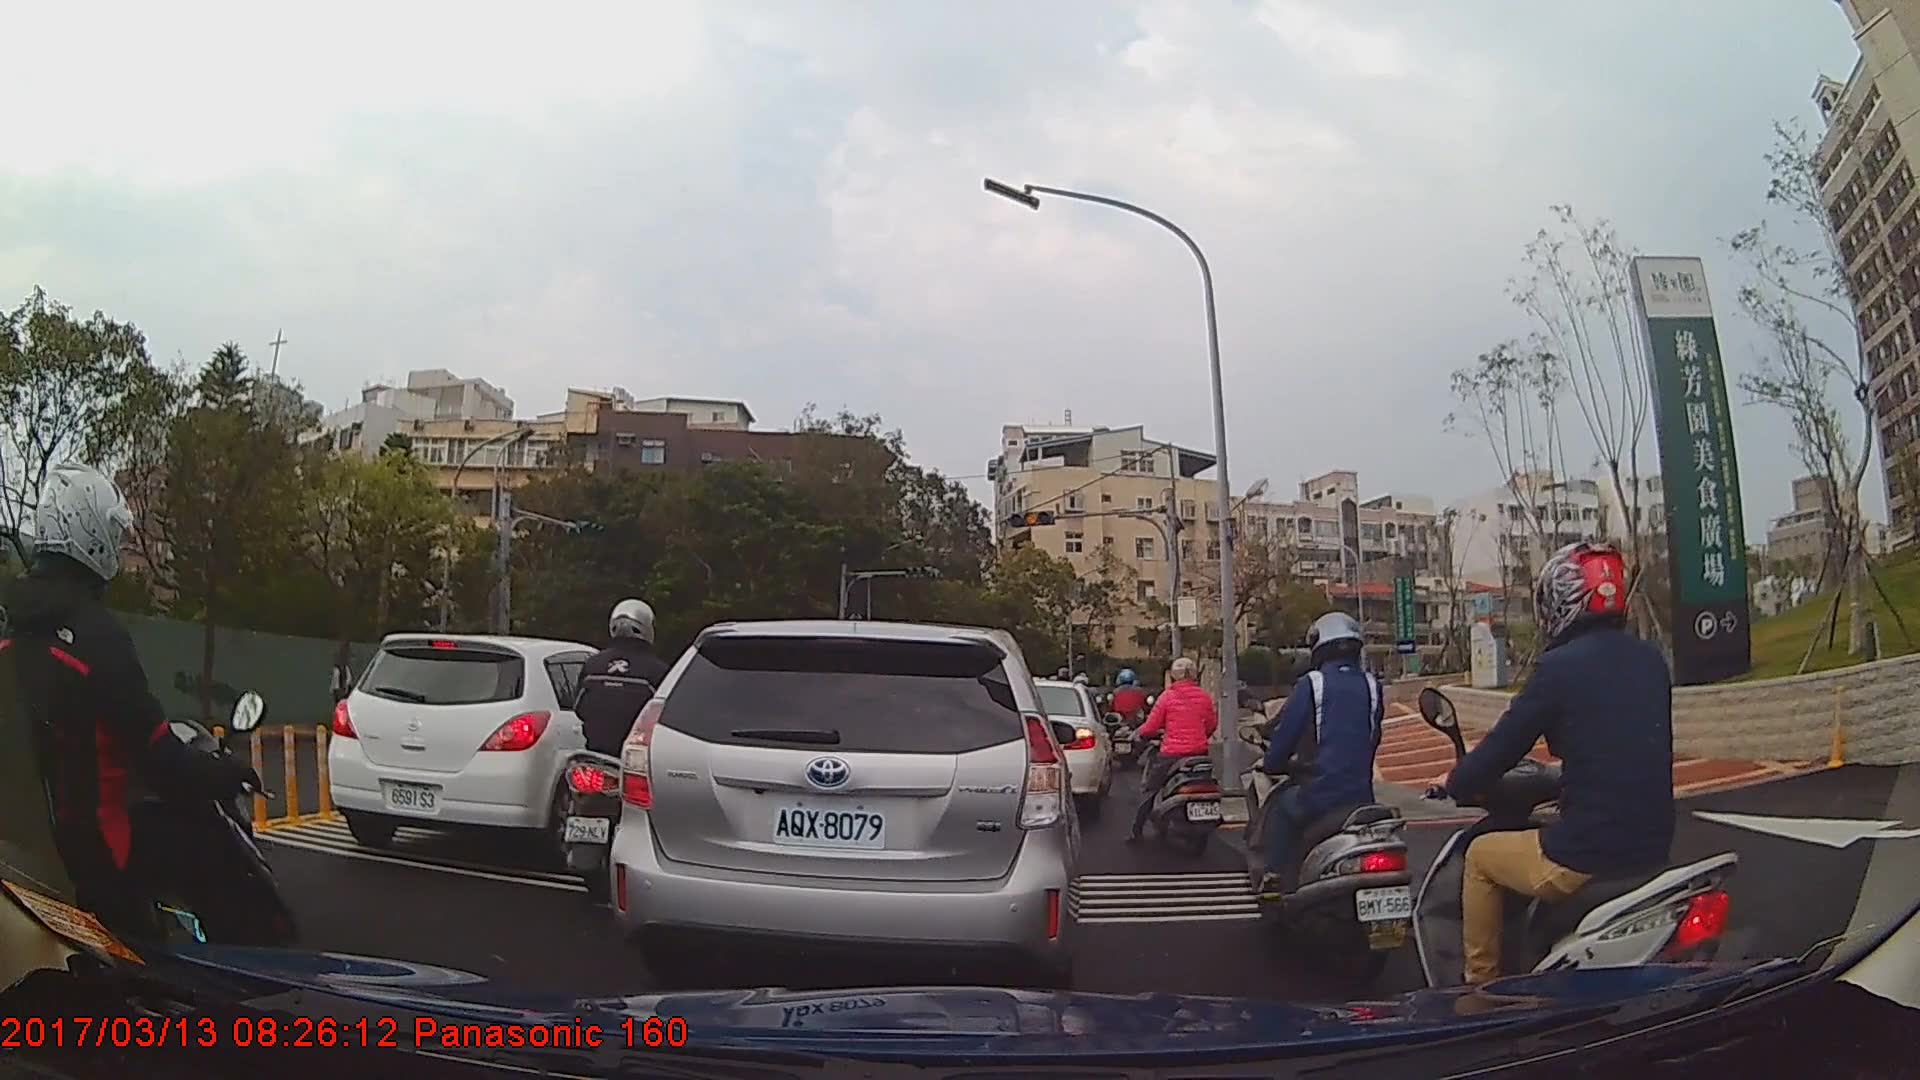pedestrian: (329, 654, 356, 729)
rider: (1420, 529, 1752, 1062), (1, 469, 306, 1047), (1243, 615, 1414, 999), (560, 596, 700, 909), (1131, 658, 1227, 859), (1104, 666, 1150, 767)
vehicle: (607, 618, 1081, 1025), (327, 630, 657, 864), (1005, 677, 1112, 814)
